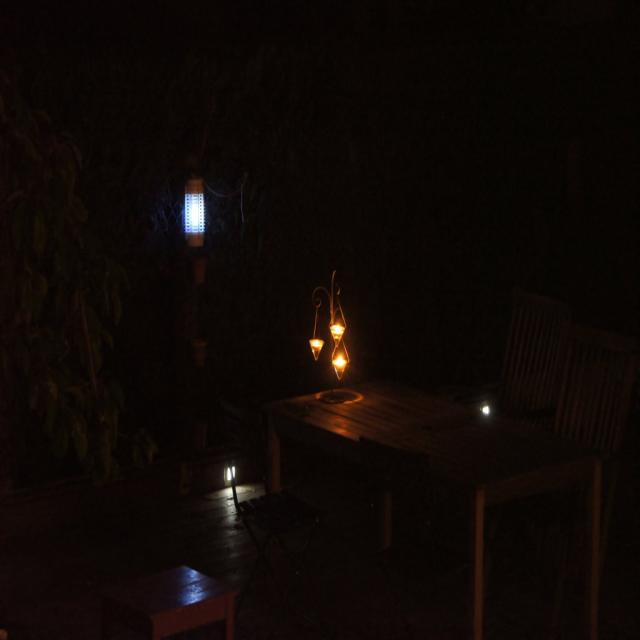Table: (249, 344, 608, 640)
chair: (562, 311, 640, 479), (486, 292, 572, 442)
